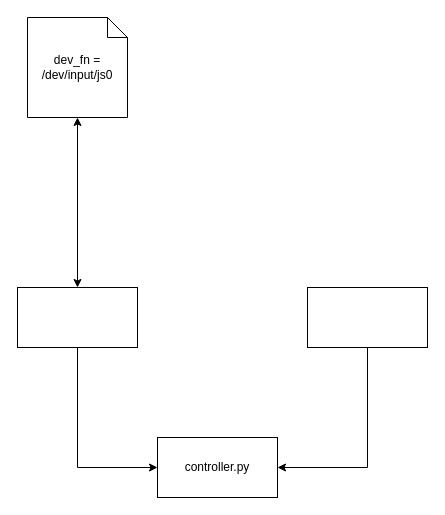
Image size: 445x515. Some labels were removed from this diagram. Each missing label, with the box of its shape:
gamepad.py: (16, 286, 138, 348)
vehicles.py: (306, 286, 428, 348)
